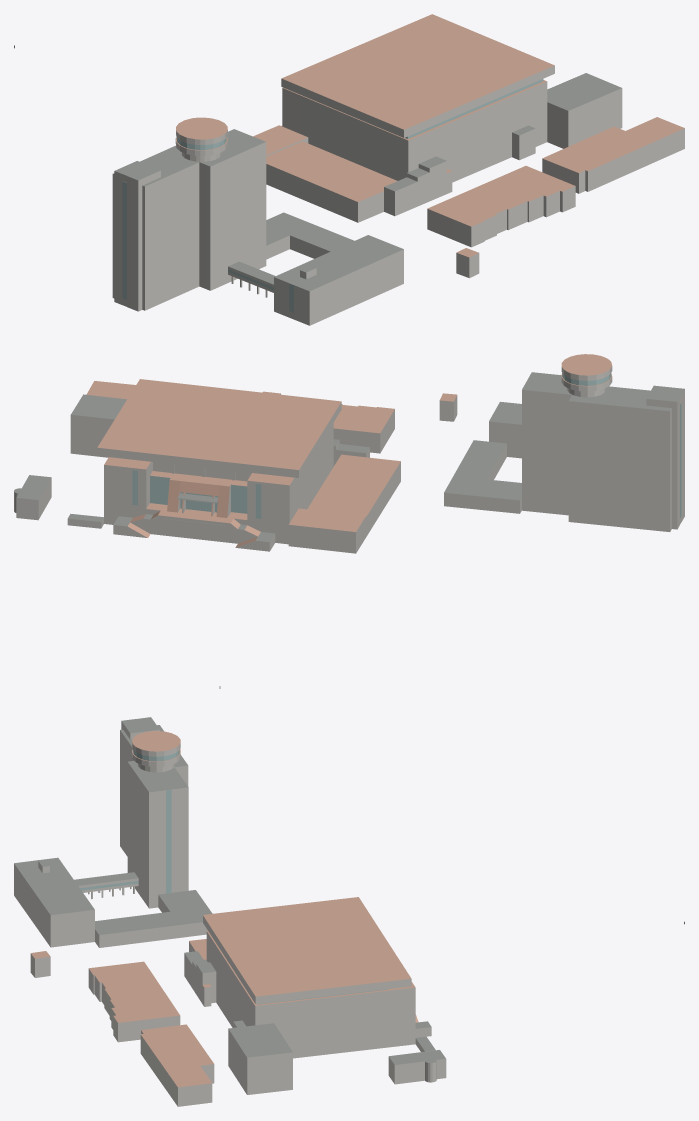
The model's file is gridID_63.dae.
3 renders of one model, top to bottom at view 1: azimuth 30°, elevation 25°; view 2: azimuth 150°, elevation 25°; view 3: azimuth 270°, elevation 25°, orthographic. The views are drawn at different scales.
Parts seen in each view (by area): view 1: model_gridID_63_w113655495_005, model_gridID_63_w113655484_001, model_gridID_63_w113655713, model_gridID_63_w113655495_003, model_gridID_63_w113655495_002, model_gridID_63_w113655495_001, model_gridID_63_w376352633_004, model_gridID_63_w376352633_006, model_gridID_63_w376352640, model_gridID_63_w376352633_005, model_gridID_63_w376352633_002, model_gridID_63_w376352633; view 2: model_gridID_63_w113655495_005, model_gridID_63_w113655484_001, model_gridID_63_w113655495_002, model_gridID_63_w113655713, model_gridID_63_w113655495_004, model_gridID_63_w113655495_001; view 3: model_gridID_63_w113655495_005, model_gridID_63_w113655484_001, model_gridID_63_w113655713, model_gridID_63_w113655495_003, model_gridID_63_w113655495_002, model_gridID_63_w113655495_004, model_gridID_63_w113655495_001, model_gridID_63_w376352633.
Part boxes in pixels (left/top/right/bottom): model_gridID_63_w113655495_005: left=253, top=14, right=622, bottom=222; model_gridID_63_w113655484_001: left=112, top=117, right=354, bottom=311; model_gridID_63_w113655713: left=228, top=235, right=403, bottom=325; model_gridID_63_w113655495_003: left=542, top=126, right=653, bottom=193; model_gridID_63_w113655495_002: left=427, top=166, right=558, bottom=239; model_gridID_63_w113655495_001: left=626, top=117, right=684, bottom=162; model_gridID_63_w376352633_004: left=453, top=213, right=484, bottom=247; model_gridID_63_w376352633_006: left=492, top=194, right=527, bottom=230; model_gridID_63_w376352640: left=456, top=248, right=479, bottom=278; model_gridID_63_w376352633_005: left=512, top=188, right=543, bottom=222; model_gridID_63_w376352633_002: left=530, top=184, right=559, bottom=217; model_gridID_63_w376352633: left=546, top=179, right=575, bottom=212; model_gridID_63_w113655495_005: left=70, top=379, right=400, bottom=553; model_gridID_63_w113655484_001: left=444, top=354, right=684, bottom=531; model_gridID_63_w113655495_002: left=333, top=414, right=388, bottom=453; model_gridID_63_w113655713: left=489, top=401, right=521, bottom=458; model_gridID_63_w113655495_004: left=14, top=475, right=51, bottom=520; model_gridID_63_w113655495_001: left=86, top=381, right=135, bottom=399; model_gridID_63_w113655495_005: left=184, top=897, right=431, bottom=1094; model_gridID_63_w113655484_001: left=95, top=717, right=212, bottom=947; model_gridID_63_w113655713: left=14, top=857, right=138, bottom=947; model_gridID_63_w113655495_003: left=140, top=1024, right=214, bottom=1088; model_gridID_63_w113655495_002: left=112, top=961, right=180, bottom=1039; model_gridID_63_w113655495_004: left=388, top=1050, right=446, bottom=1084; model_gridID_63_w113655495_001: left=165, top=1066, right=212, bottom=1106; model_gridID_63_w376352633: left=113, top=1013, right=138, bottom=1042.
Bounding box in the file's own units: 222 × 235 × 54.1.
